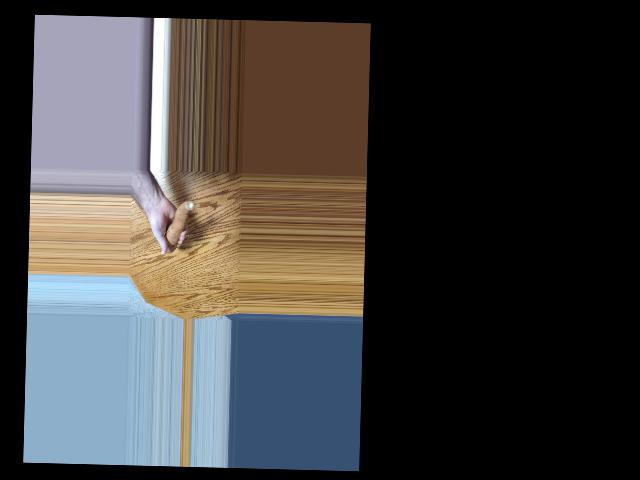sweet_potato: (163, 197, 192, 252)
